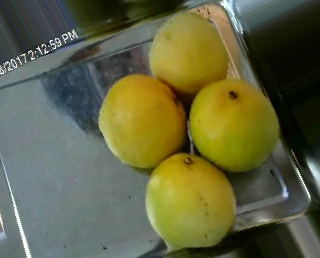Mango: (144, 152, 234, 246), (191, 80, 279, 171), (100, 76, 185, 165), (149, 14, 228, 92)
